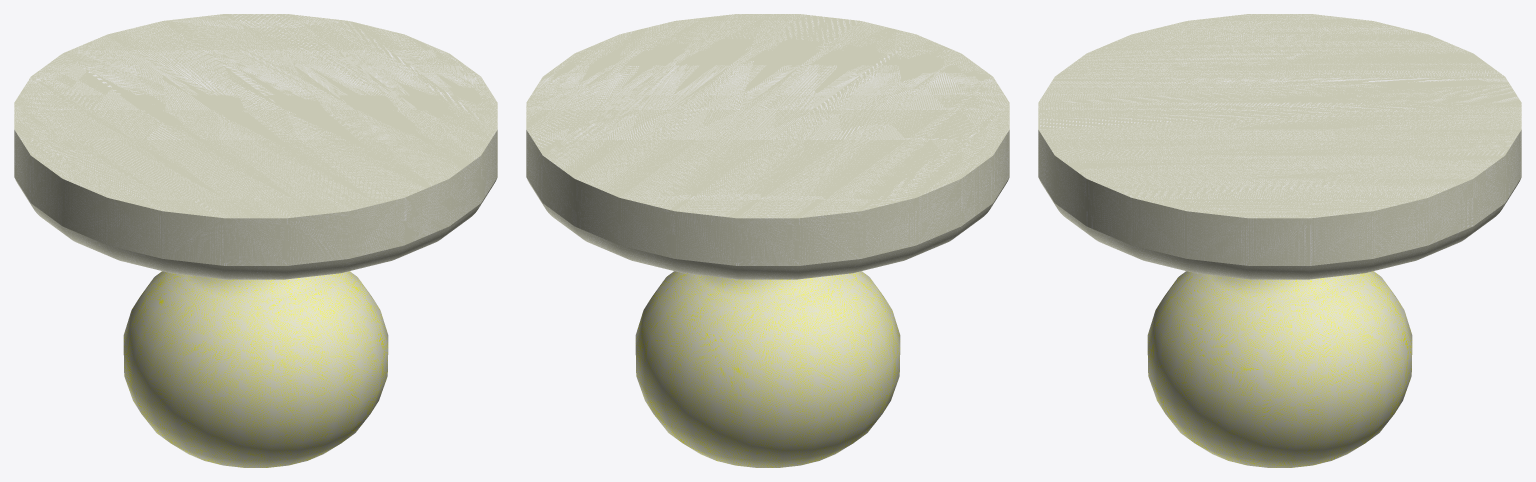
3 views of the same model, side by side, from view 1: azimuth 30°, elevation 25°; view 2: azimuth 150°, elevation 25°; view 3: azimuth 270°, elevation 25° (orthographic).
Parts seen in each view (by area): view 1: SketchUp (×2); view 2: SketchUp (×2); view 3: SketchUp (×2).
Boxes of the visible parts, x1,y1,x2,y2 form: SketchUp (×2): (14, 14, 497, 467); SketchUp (×2): (526, 14, 1009, 467); SketchUp (×2): (1038, 14, 1521, 467).
Bounding box in the file's own units: 208 × 208 × 156.
